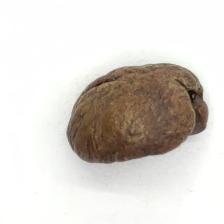NG: (176, 69, 208, 140)
